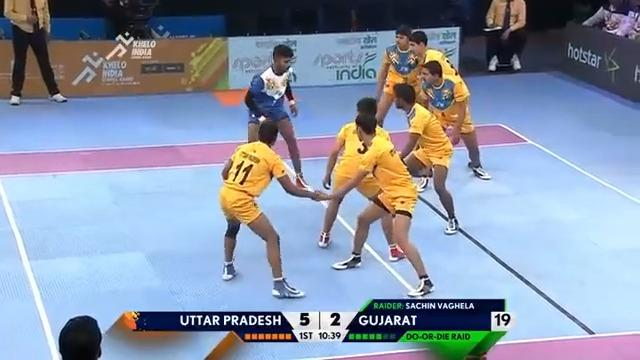Player: (321, 111, 435, 297), (218, 118, 333, 298), (391, 82, 460, 235), (414, 59, 491, 182), (3, 0, 68, 105), (372, 24, 423, 127), (57, 314, 102, 359)
Raider: (243, 43, 311, 189)
referee: (482, 0, 527, 72), (108, 0, 169, 41), (581, 0, 639, 39)
